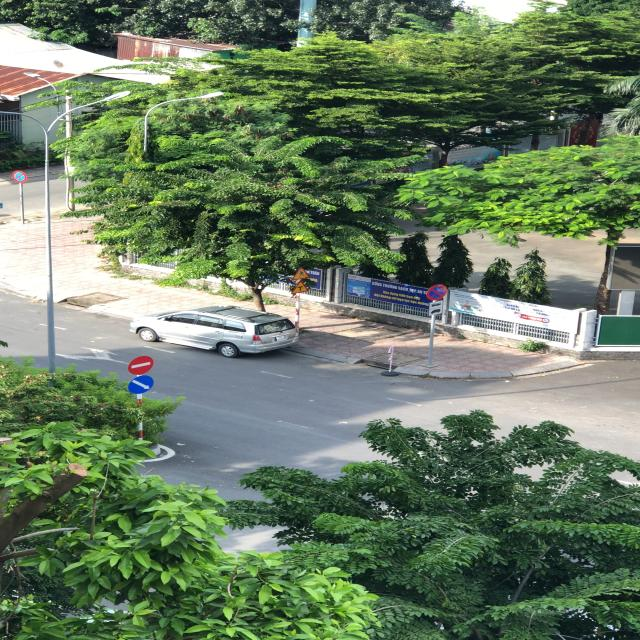Bien bao cam di nguoc chieu: (126, 354, 156, 376)
Bien bao cam dung xe va do xe: (424, 283, 448, 301)
Bien bao duong giao nhau: (287, 281, 315, 296)
Bien bao duong nguoi di bo cat ngang: (290, 265, 312, 281)
Bien bao huong phai di vong chuong ngai vat: (128, 376, 156, 395)
